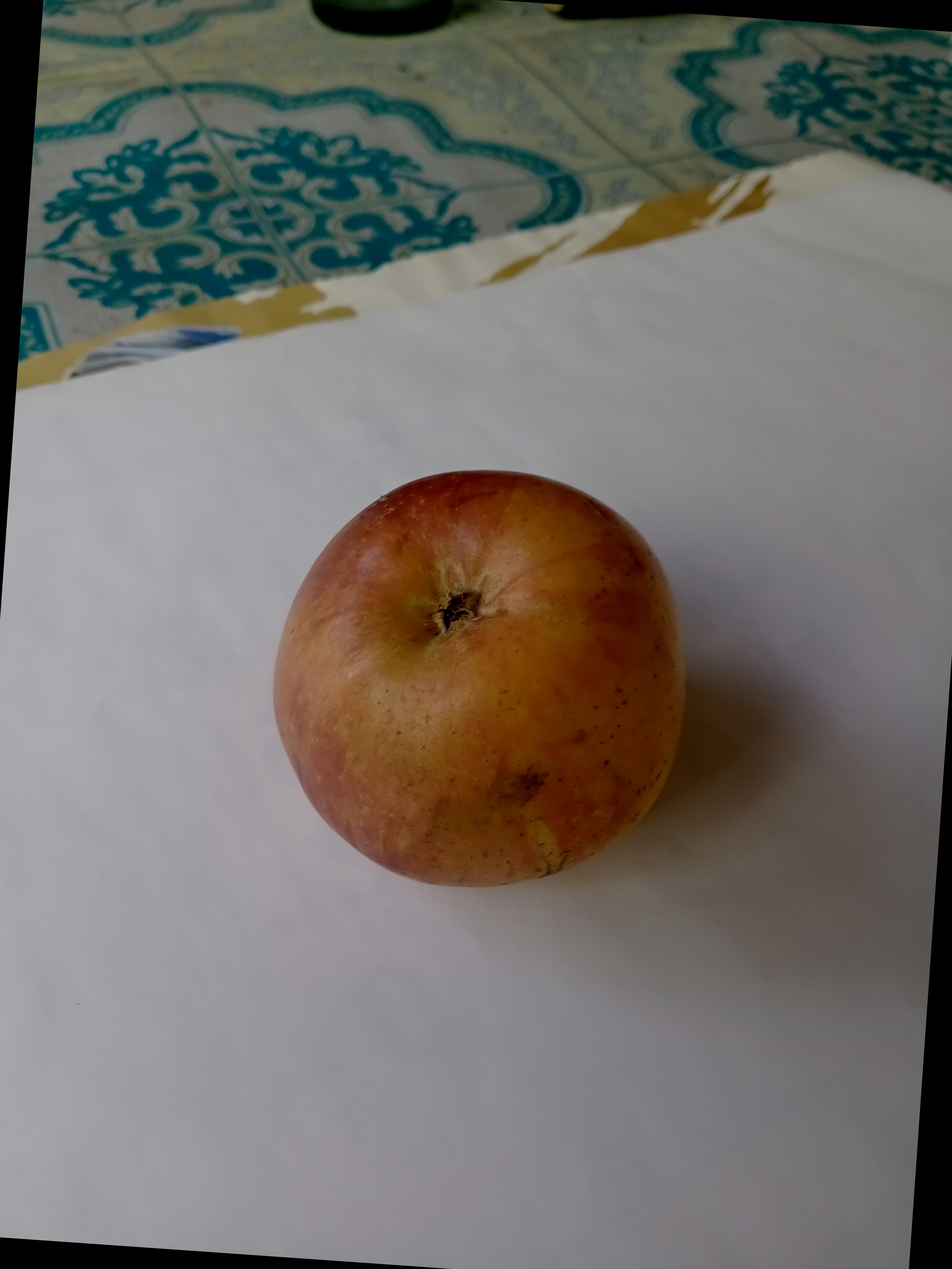Apple Ripe: (297, 398, 763, 895)
